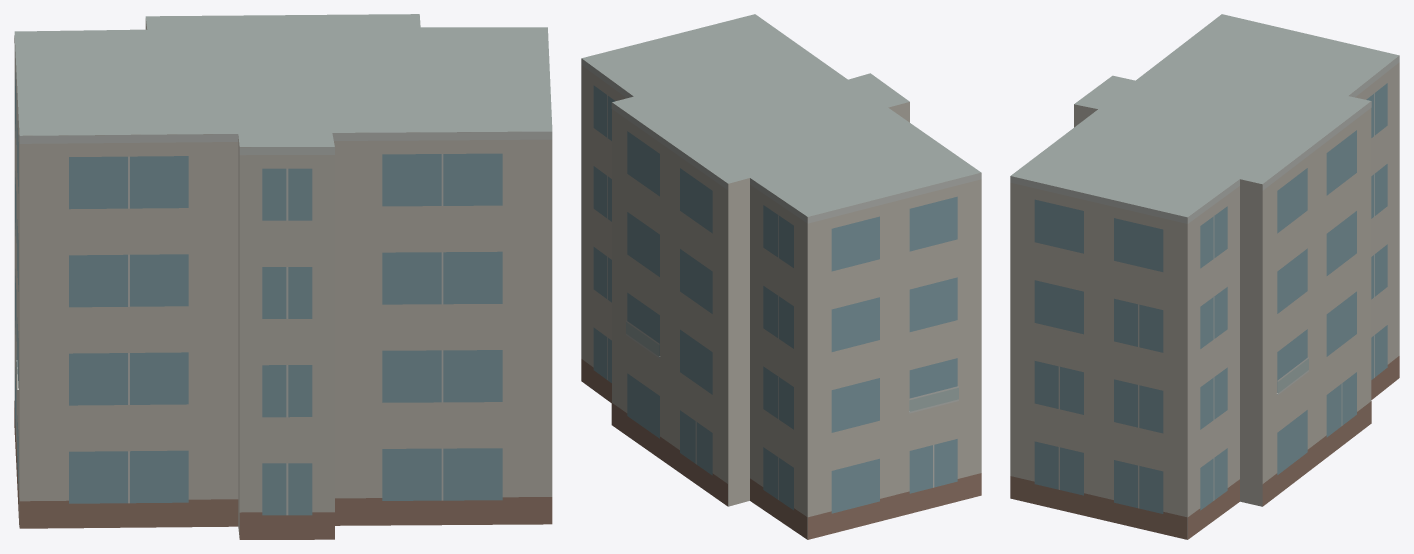
The model's file is survey-upis-32853497.glb.
3 views of the same model, side by side, from view 1: azimuth 30°, elevation 25°; view 2: azimuth 150°, elevation 25°; view 3: azimuth 270°, elevation 25° (orthographic). The views are drawn at different scales.
Visible parts, largest first — view 1: survey-upis-32853497.tmp; view 2: survey-upis-32853497.tmp; view 3: survey-upis-32853497.tmp.
Part boxes in pixels (<box>): survey-upis-32853497.tmp: <box>14,14,552,539</box>; survey-upis-32853497.tmp: <box>581,14,981,539</box>; survey-upis-32853497.tmp: <box>1010,14,1399,539</box>.
Size of the model in its own units: 15.97 by 11.8 by 12.92.
